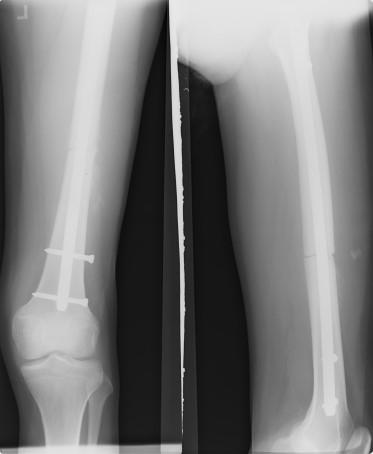fractured: (65, 137, 100, 155), (301, 247, 337, 262)
